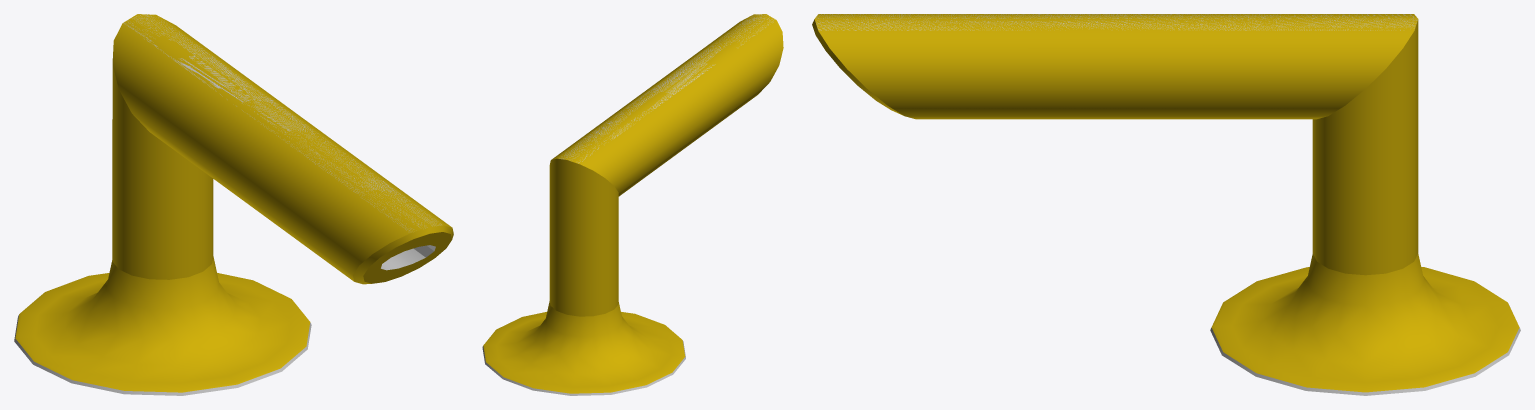
The model's file is original-3.obj.
3 views of the same model, side by side, from view 1: azimuth 30°, elevation 25°; view 2: azimuth 150°, elevation 25°; view 3: azimuth 270°, elevation 25° (orthographic). The views are drawn at different scales.
Parts seen in each view (by area): view 1: mesh2/mesh2-geometry#mesh2-geometry; view 2: mesh2/mesh2-geometry#mesh2-geometry; view 3: mesh2/mesh2-geometry#mesh2-geometry.
Boxes of the visible parts, box(x1,y1,x2,y2) form: mesh2/mesh2-geometry#mesh2-geometry: box(14, 14, 453, 395); mesh2/mesh2-geometry#mesh2-geometry: box(482, 14, 783, 395); mesh2/mesh2-geometry#mesh2-geometry: box(812, 14, 1520, 395).
Bounding box in the file's own units: 0.3114 × 0.3443 × 0.7102.
